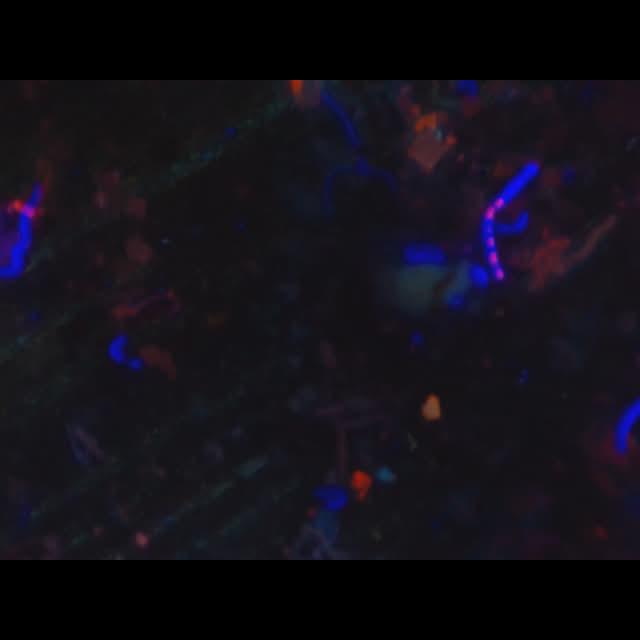Fragment: (351, 472, 372, 501)
